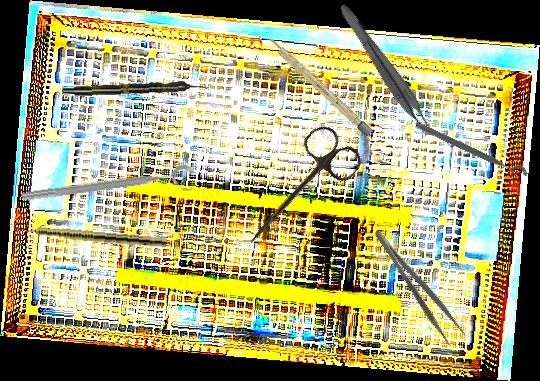Dressing Forceps: (371, 221, 467, 348)
Fixation Ring: (20, 163, 198, 216), (410, 118, 530, 188)
Handpiece: (7, 222, 168, 248), (61, 80, 209, 98)
Iris Scissors: (230, 119, 367, 265)
Scalpel Handle: (263, 34, 374, 137)
Tissue Forceps: (330, 1, 439, 140)
